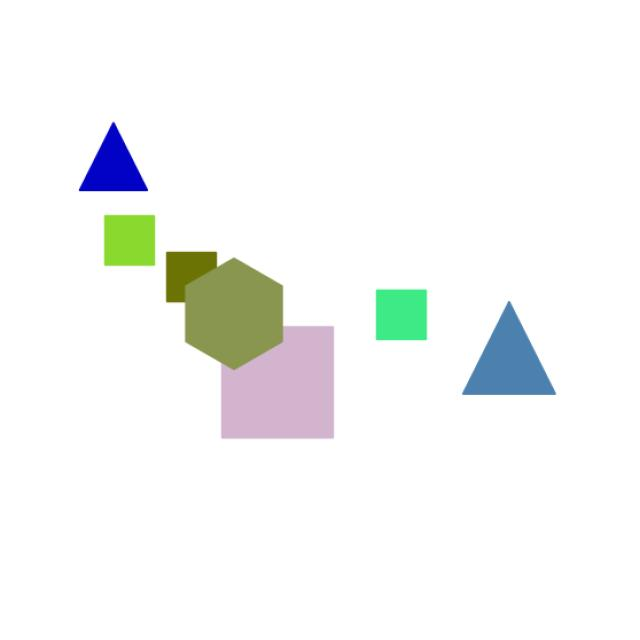Hexagon: (174, 252, 296, 375)
Triangle: (444, 288, 578, 410), (59, 113, 165, 203)
square: (216, 315, 352, 454), (361, 268, 439, 354), (160, 242, 227, 318), (99, 206, 168, 273)
